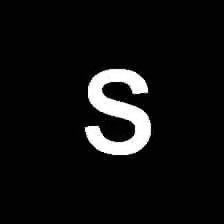LTR_S: (80, 60, 154, 159)
